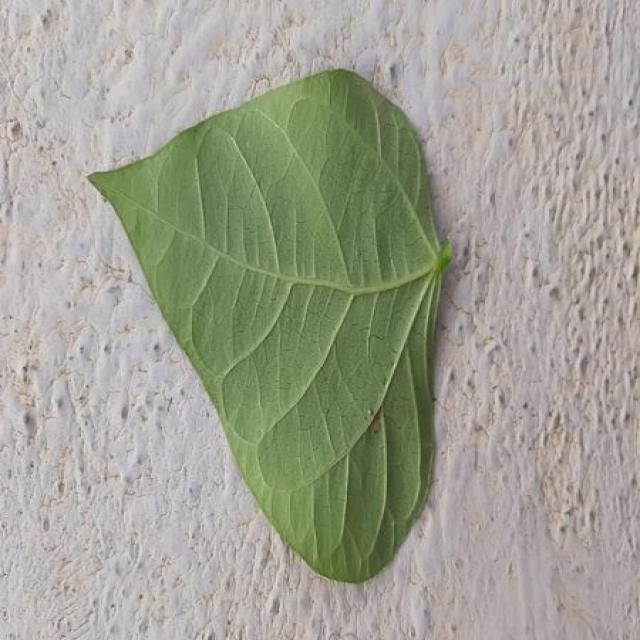beans: (90, 70, 452, 582)
